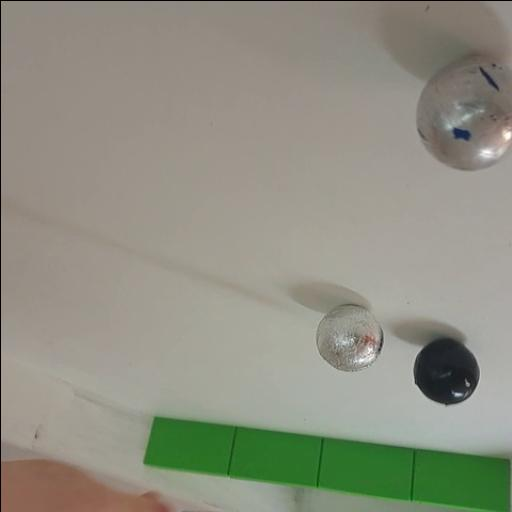alive: (408, 46, 512, 173), (313, 304, 383, 372)
dead: (410, 336, 480, 406)
